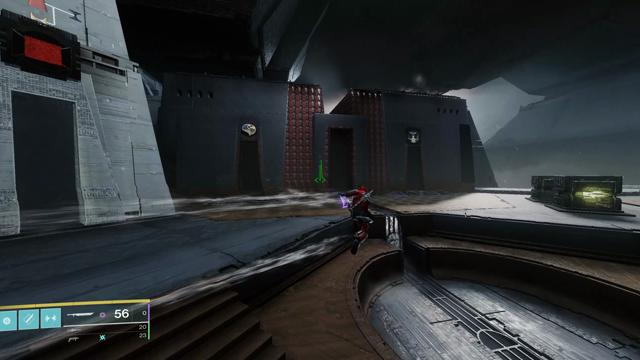brain: (241, 122, 257, 137)
drink: (408, 130, 419, 143)
stop: (14, 31, 71, 73)
